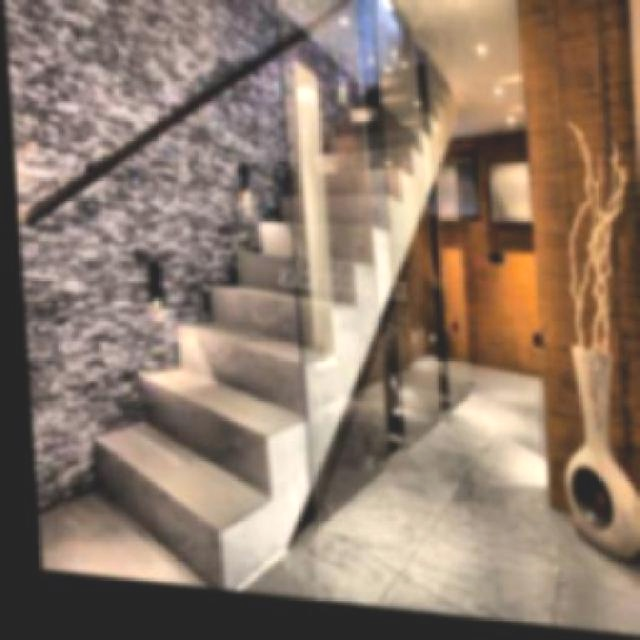stair: (32, 0, 476, 591)
